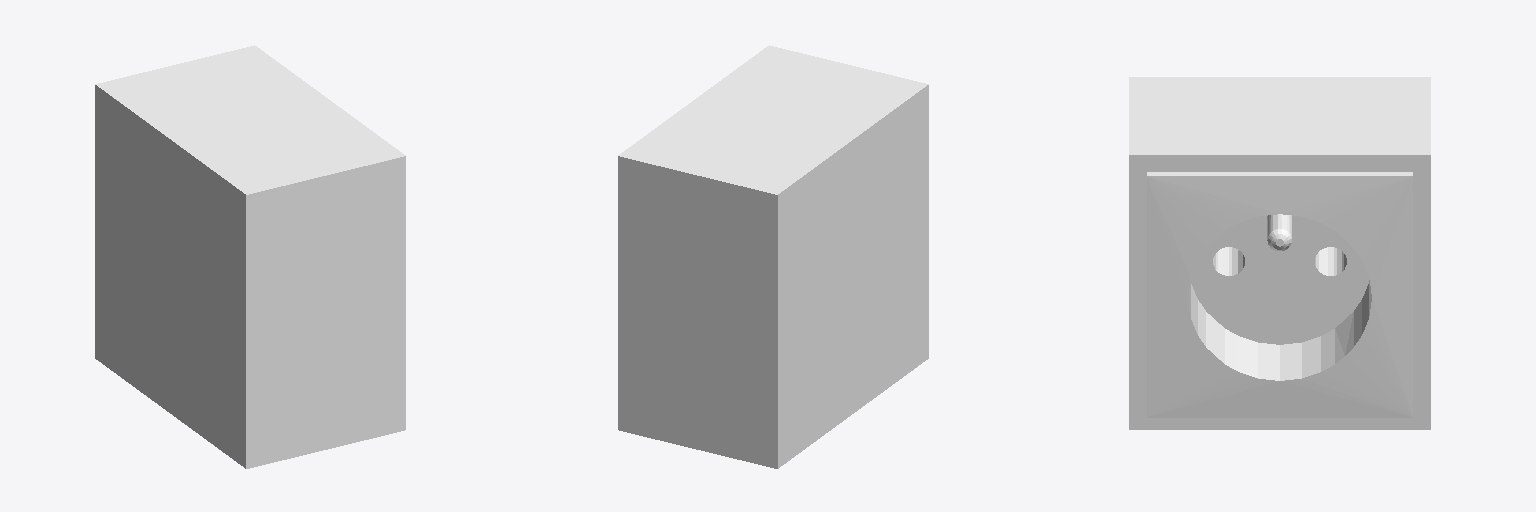
File: socketSmooth.obj
3 renders of one model, left to right at view 1: azimuth 30°, elevation 25°; view 2: azimuth 150°, elevation 25°; view 3: azimuth 270°, elevation 25°, orthographic.
Parts seen in each view (by area): view 1: Cube; view 2: Cube; view 3: Cube.
Boxes of the visible parts, x1=… form: Cube: x1=95, y1=45, x2=405, y2=468; Cube: x1=618, y1=45, x2=928, y2=468; Cube: x1=1129, y1=77, x2=1430, y2=429.
Size of the model in its own units: 1.94 by 2.97 by 2.97.